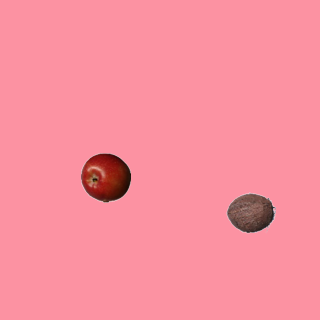Apple Braeburn: (80, 152, 130, 202)
Cocos: (225, 187, 275, 237)
